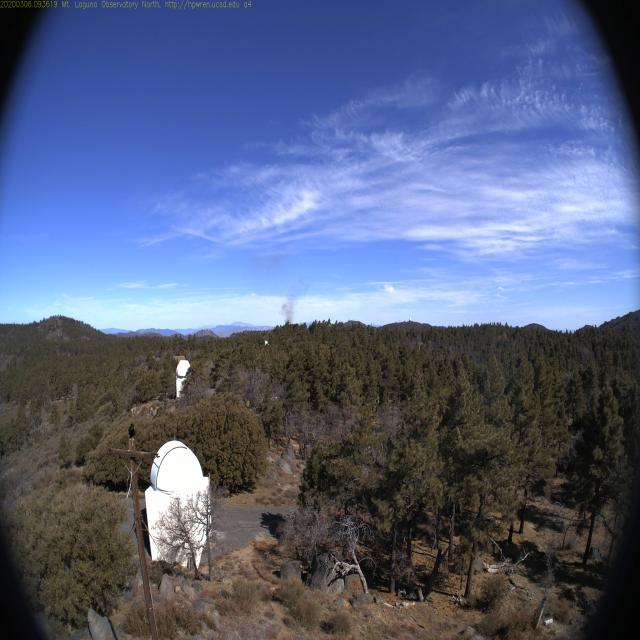smoke: (286, 283, 310, 304), (280, 304, 296, 324)
